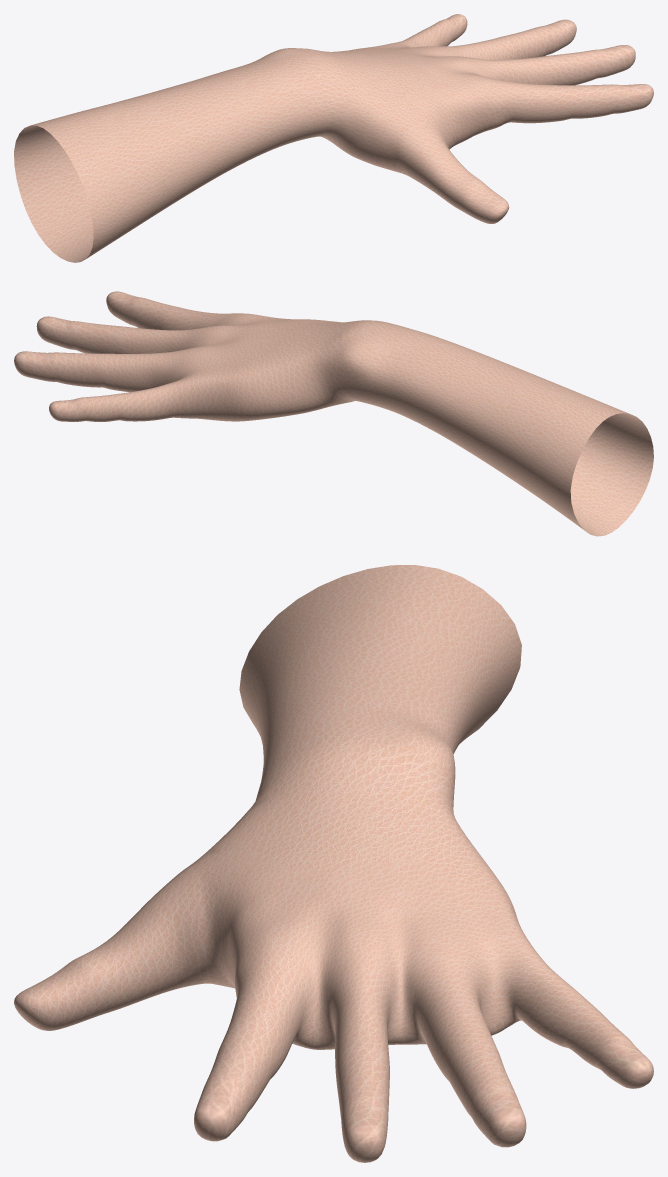
Rendered from mao.glb.
3 views of the same model, one above another, from view 1: azimuth 30°, elevation 25°; view 2: azimuth 150°, elevation 25°; view 3: azimuth 270°, elevation 25° (orthographic). The views are drawn at different scales.
Parts seen in each view (by area): view 1: HighPoly; view 2: HighPoly; view 3: HighPoly.
Boxes of the visible parts, x1=… form: HighPoly: x1=14, y1=14, x2=653, y2=262; HighPoly: x1=14, y1=291, x2=653, y2=536; HighPoly: x1=14, y1=565, x2=653, y2=1162.
Size of the model in its own units: 0.0667 by 0.0155 by 0.0369.
Materials: 4 (1 with a texture image).
